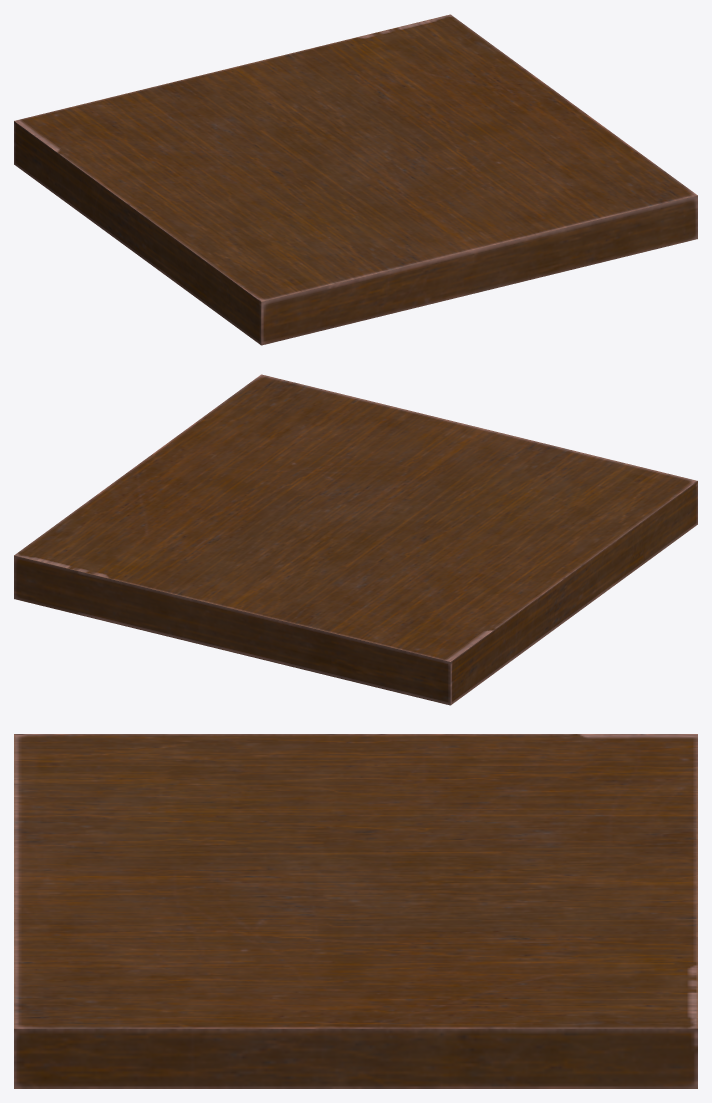
File: Wooden Object 1Y.fbx
3 views of the same model, one above another, from view 1: azimuth 30°, elevation 25°; view 2: azimuth 150°, elevation 25°; view 3: azimuth 270°, elevation 25° (orthographic). The views are drawn at different scales.
Visible parts, largest first — view 1: Wooden Object 1Y; view 2: Wooden Object 1Y; view 3: Wooden Object 1Y.
Part boxes in pixels (x1=…): Wooden Object 1Y: x1=14, y1=14, x2=697, y2=345; Wooden Object 1Y: x1=14, y1=374, x2=697, y2=705; Wooden Object 1Y: x1=14, y1=734, x2=697, y2=1088.
Size of the model in its own units: 241 by 22.93 by 236.
